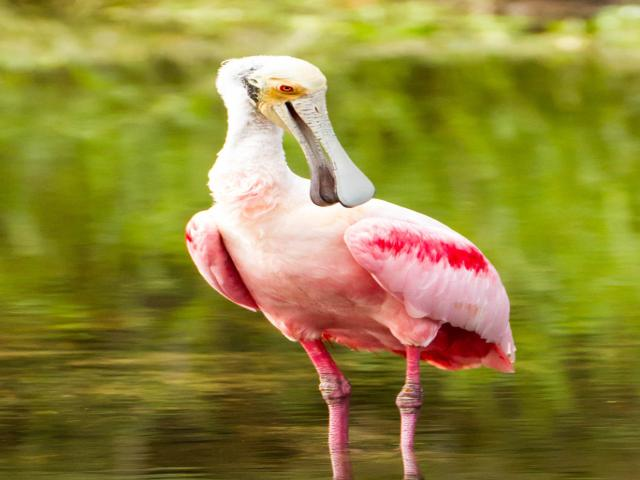Bird: (185, 54, 514, 480)
